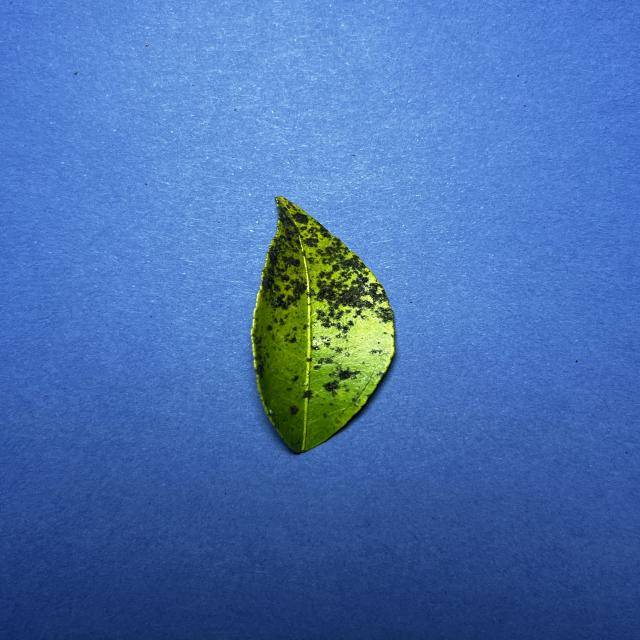sooty_mold: (252, 197, 394, 453)
